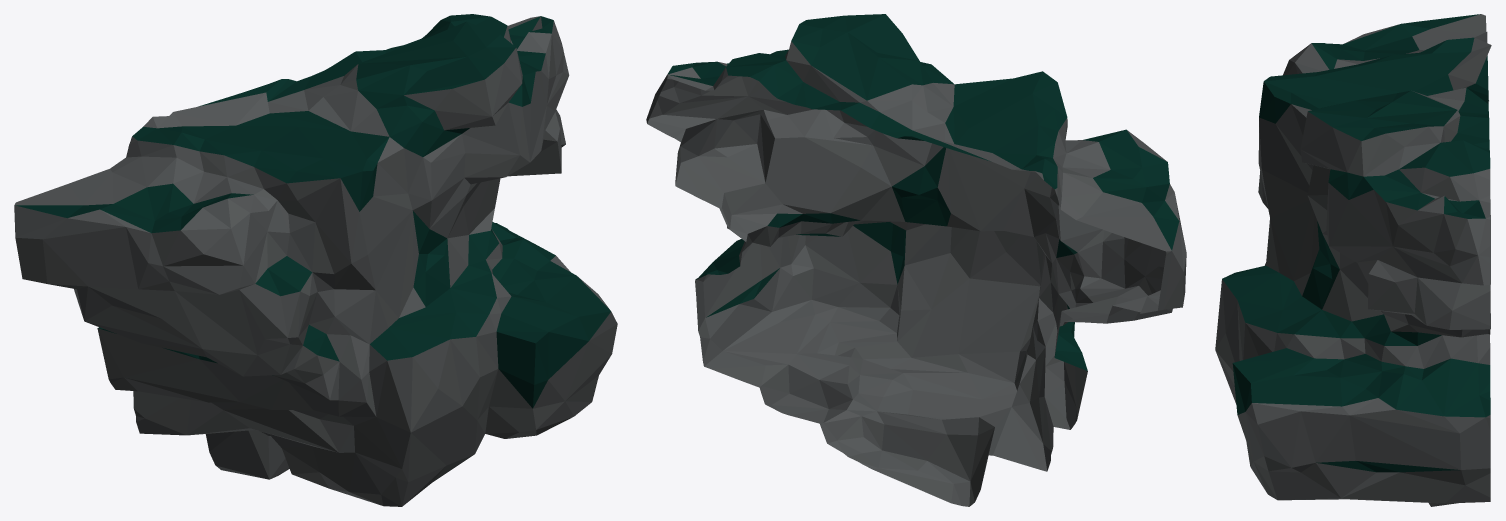
The model's file is MCastle_CliffRock_Med_02.FBX.
3 renders of one model, left to right at view 1: azimuth 30°, elevation 25°; view 2: azimuth 150°, elevation 25°; view 3: azimuth 270°, elevation 25°, orthographic. The views are drawn at different scales.
Parts seen in each view (by area): view 1: MCastle_CliffRock_Med_02_LOD0; view 2: MCastle_CliffRock_Med_02_LOD0; view 3: MCastle_CliffRock_Med_02_LOD0.
Part boxes in pixels (x1,y1,x2,y2): MCastle_CliffRock_Med_02_LOD0: [14, 14, 617, 506]; MCastle_CliffRock_Med_02_LOD0: [646, 14, 1186, 506]; MCastle_CliffRock_Med_02_LOD0: [1215, 14, 1491, 506].
Size of what is drawn, in the model's own units: 17.34 by 12.4 by 7.26.
